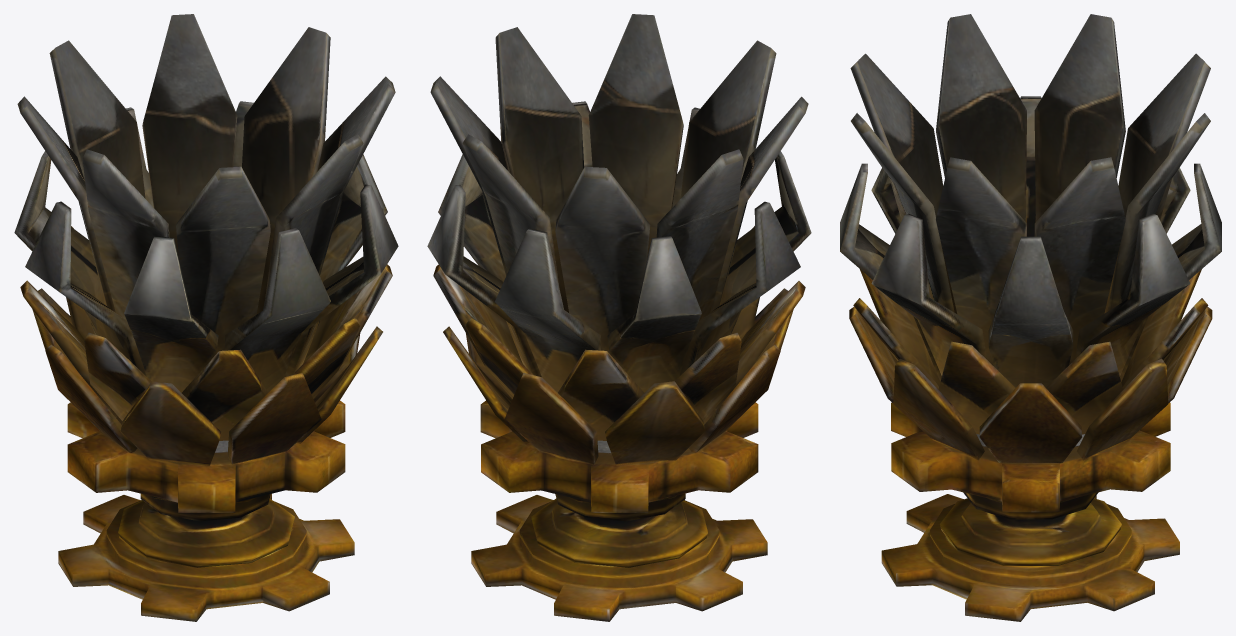
File: Teleporter4.fbx
3 views of the same model, side by side, from view 1: azimuth 30°, elevation 25°; view 2: azimuth 150°, elevation 25°; view 3: azimuth 270°, elevation 25° (orthographic).
Visible parts, largest first — view 1: Teleporter.top, Teleporter.base; view 2: Teleporter.top, Teleporter.base; view 3: Teleporter.top, Teleporter.base.
Part boxes in pixels (x1=…): Teleporter.top: x1=14, y1=14, x2=398, y2=567; Teleporter.base: x1=58, y1=493, x2=354, y2=621; Teleporter.top: x1=427, y1=14, x2=811, y2=567; Teleporter.base: x1=471, y1=495, x2=767, y2=621; Teleporter.top: x1=840, y1=14, x2=1221, y2=565; Teleporter.base: x1=881, y1=494, x2=1179, y2=621.
Size of the model in its own units: 146 by 200 by 146.
1 material, 1 textured.
